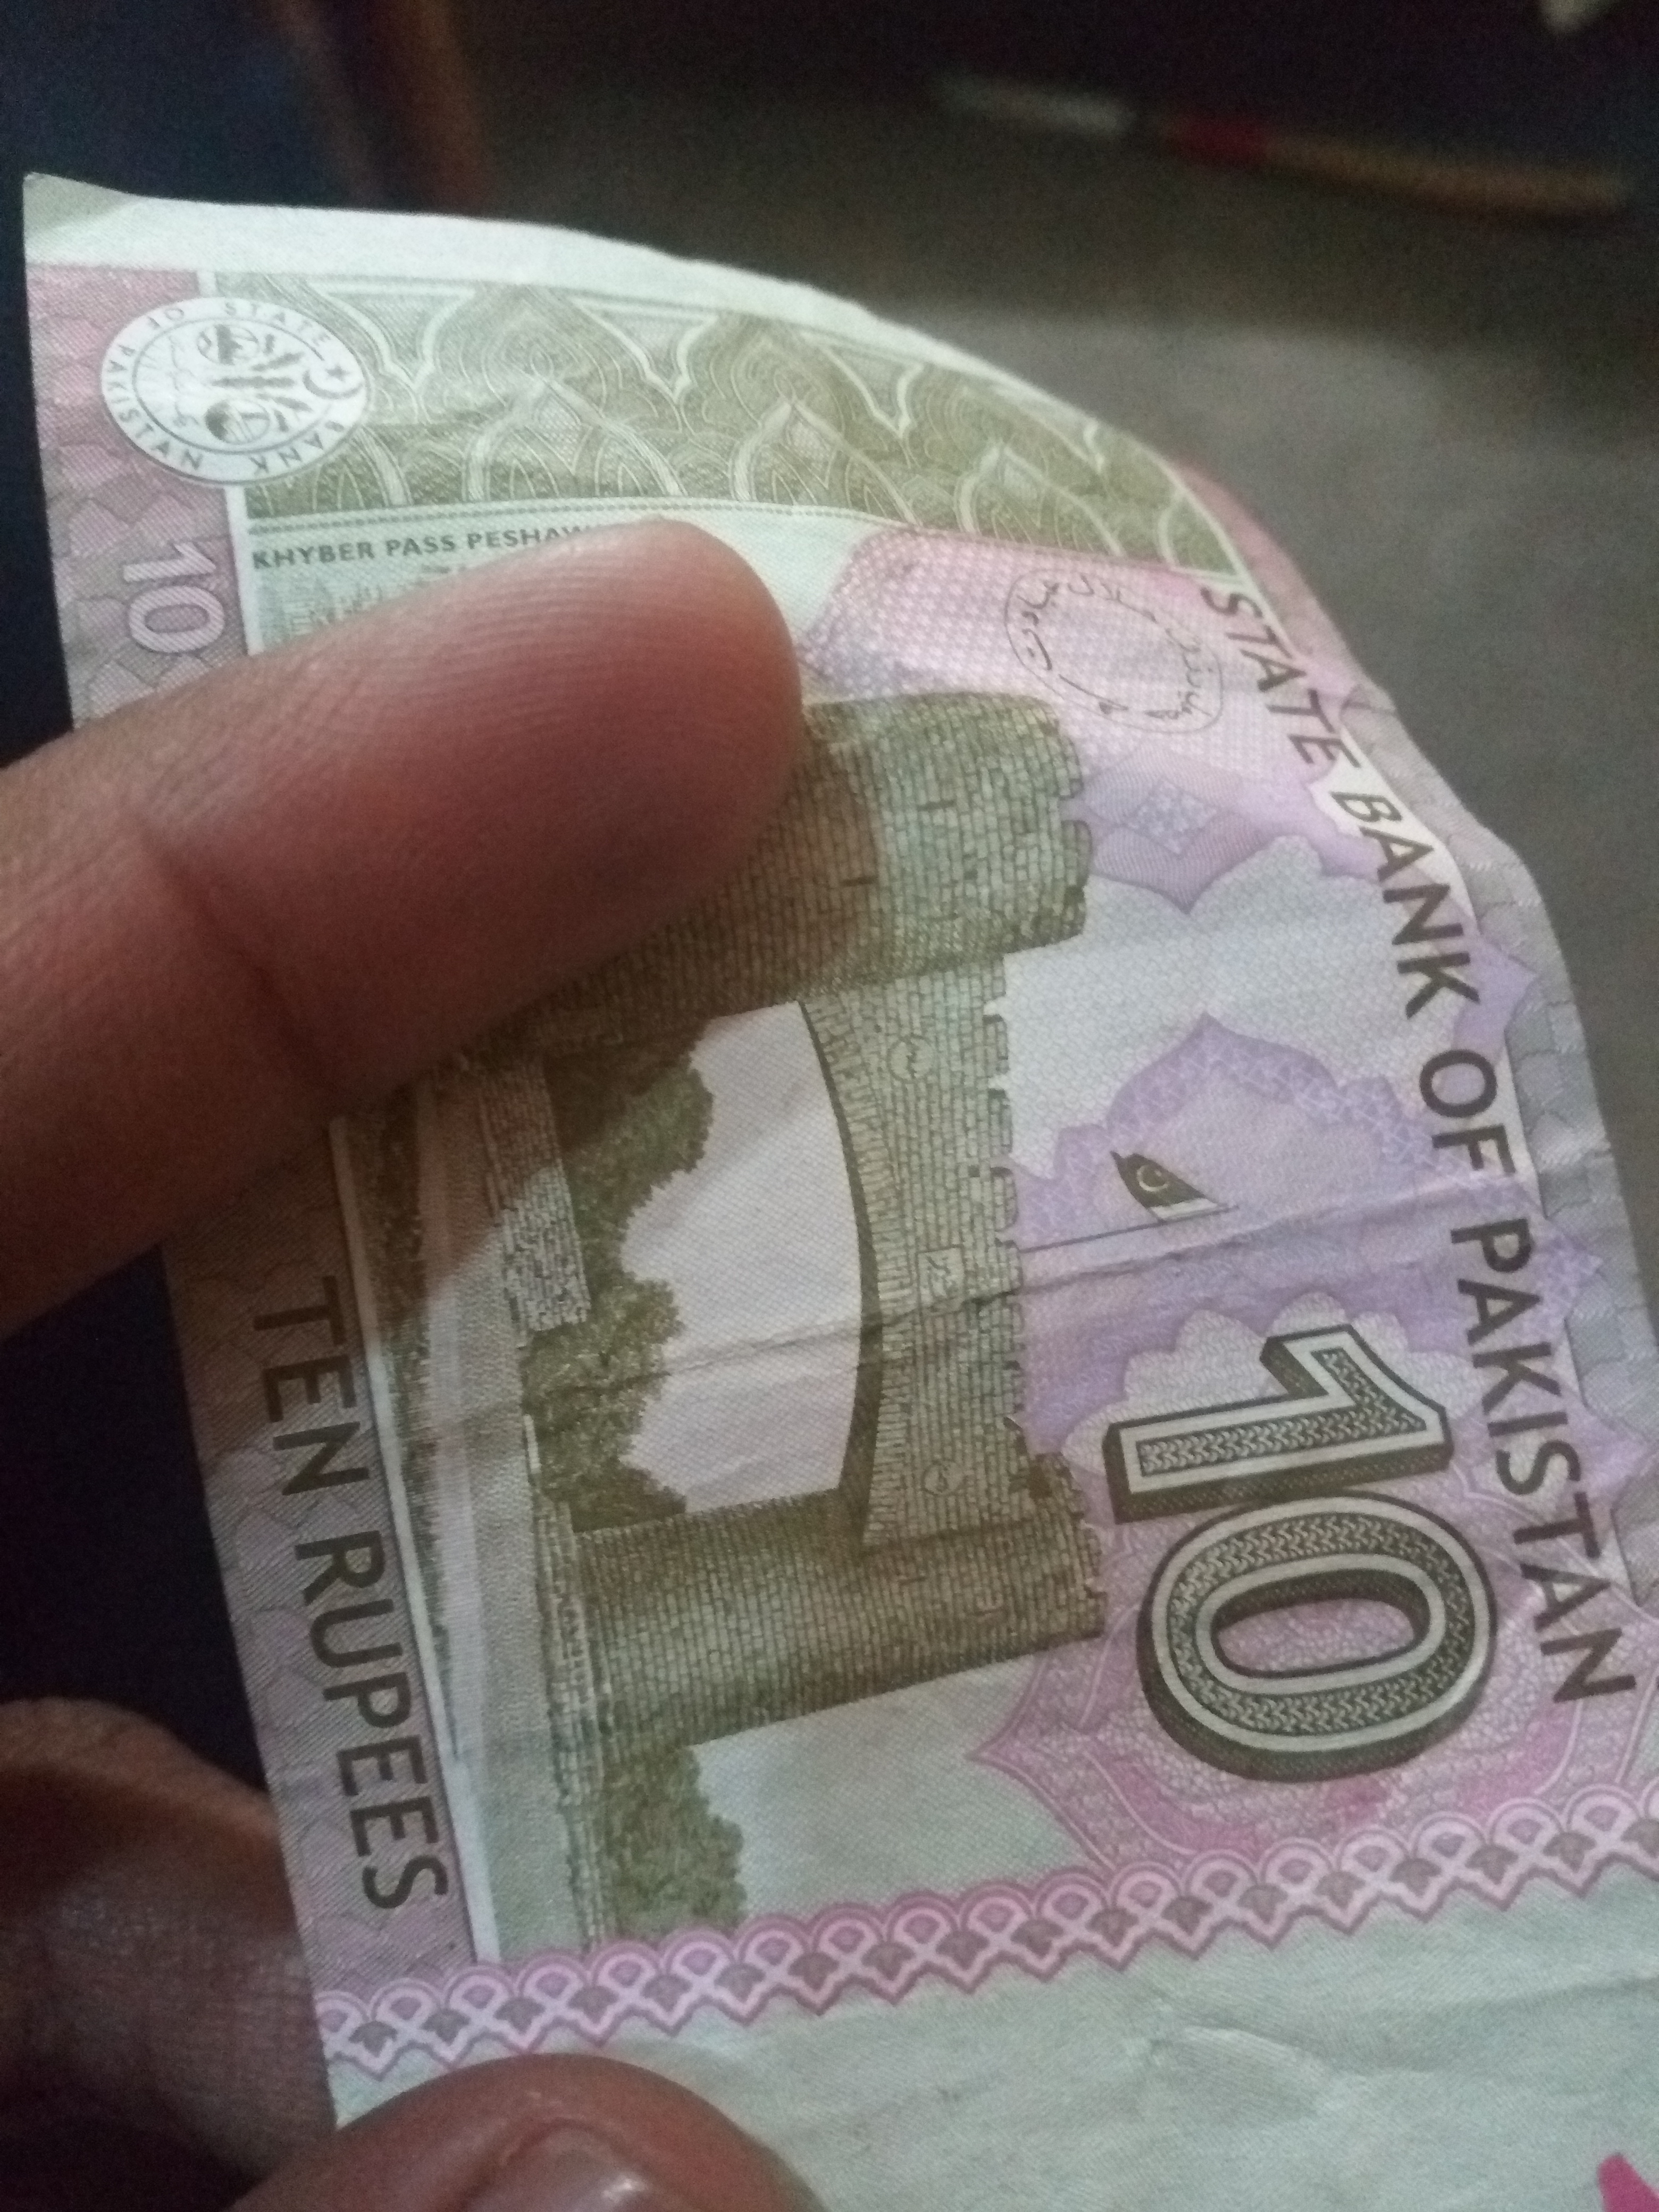10 rupee: (44, 132, 1659, 2212)
